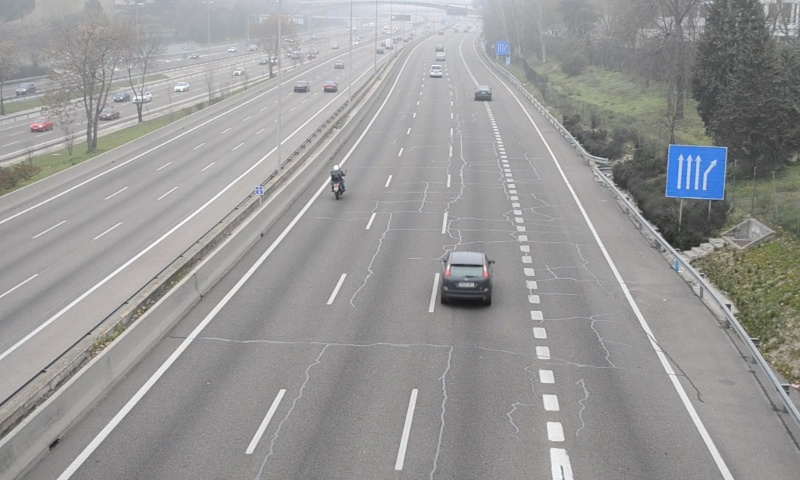car: (440, 251, 494, 306), (474, 86, 491, 100), (430, 64, 442, 78)
motorcycle: (327, 165, 347, 203)
